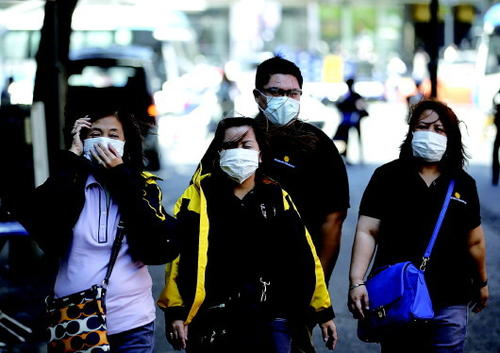yes_mask: (250, 53, 304, 129), (212, 117, 265, 187), (74, 109, 135, 169), (405, 101, 459, 162)
